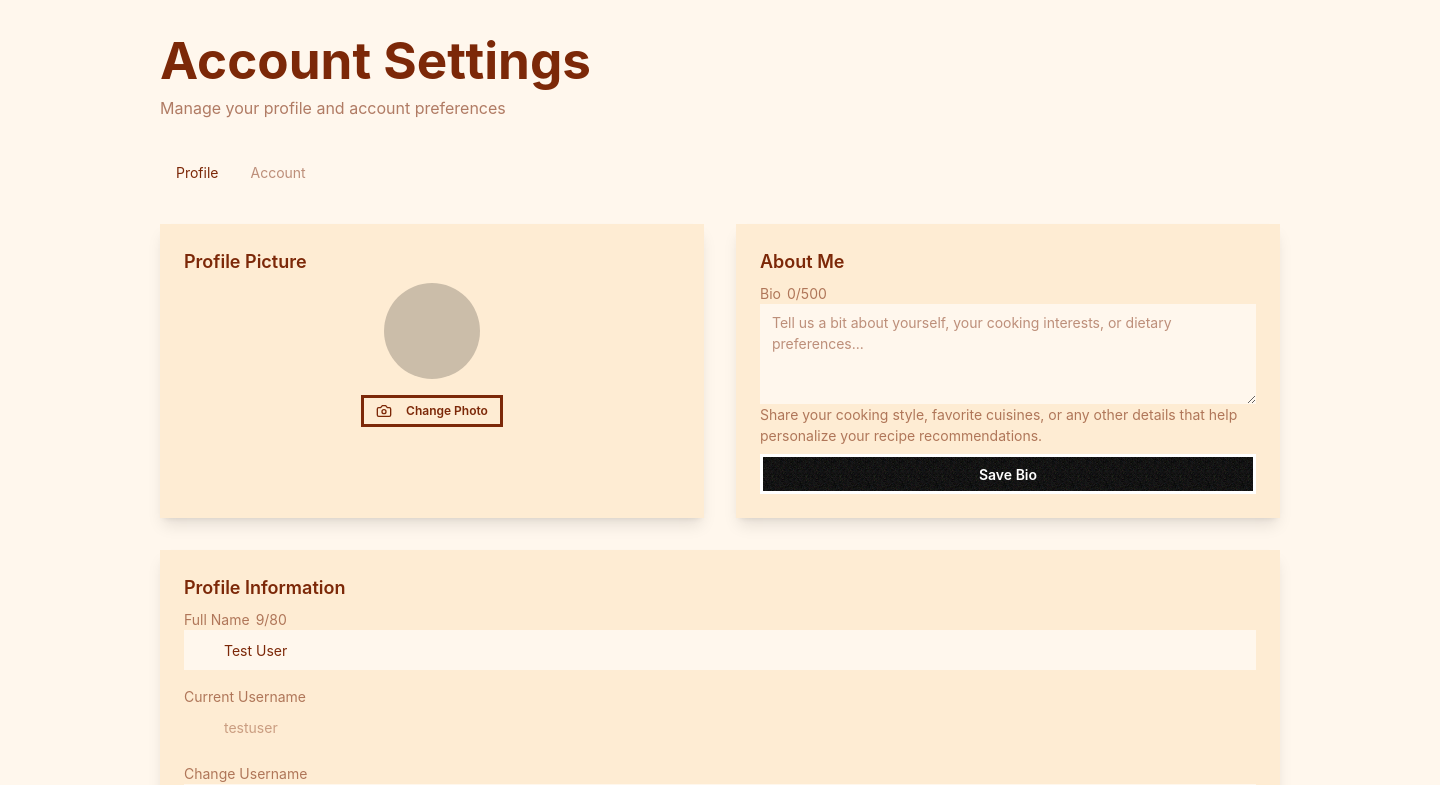
Profile Page Password Validation › Password Change Form › should show correct password requirement message
Click the button "Account" at (278, 172), box x1=234 y1=152 x2=322 y2=192
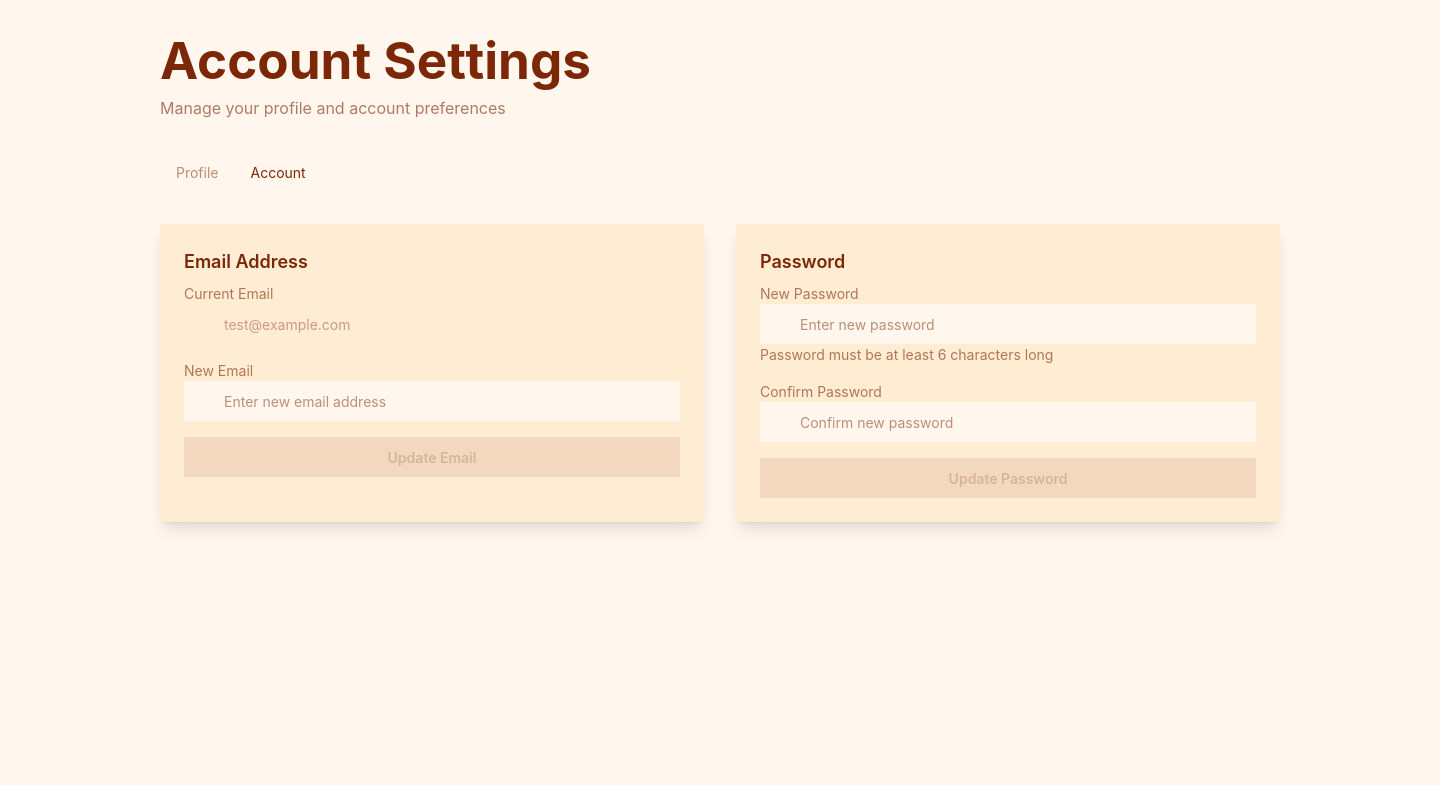
Expected: the text "Password must be at least 6 characters long" is shown, x1=760 y1=344 x2=1053 y2=365
